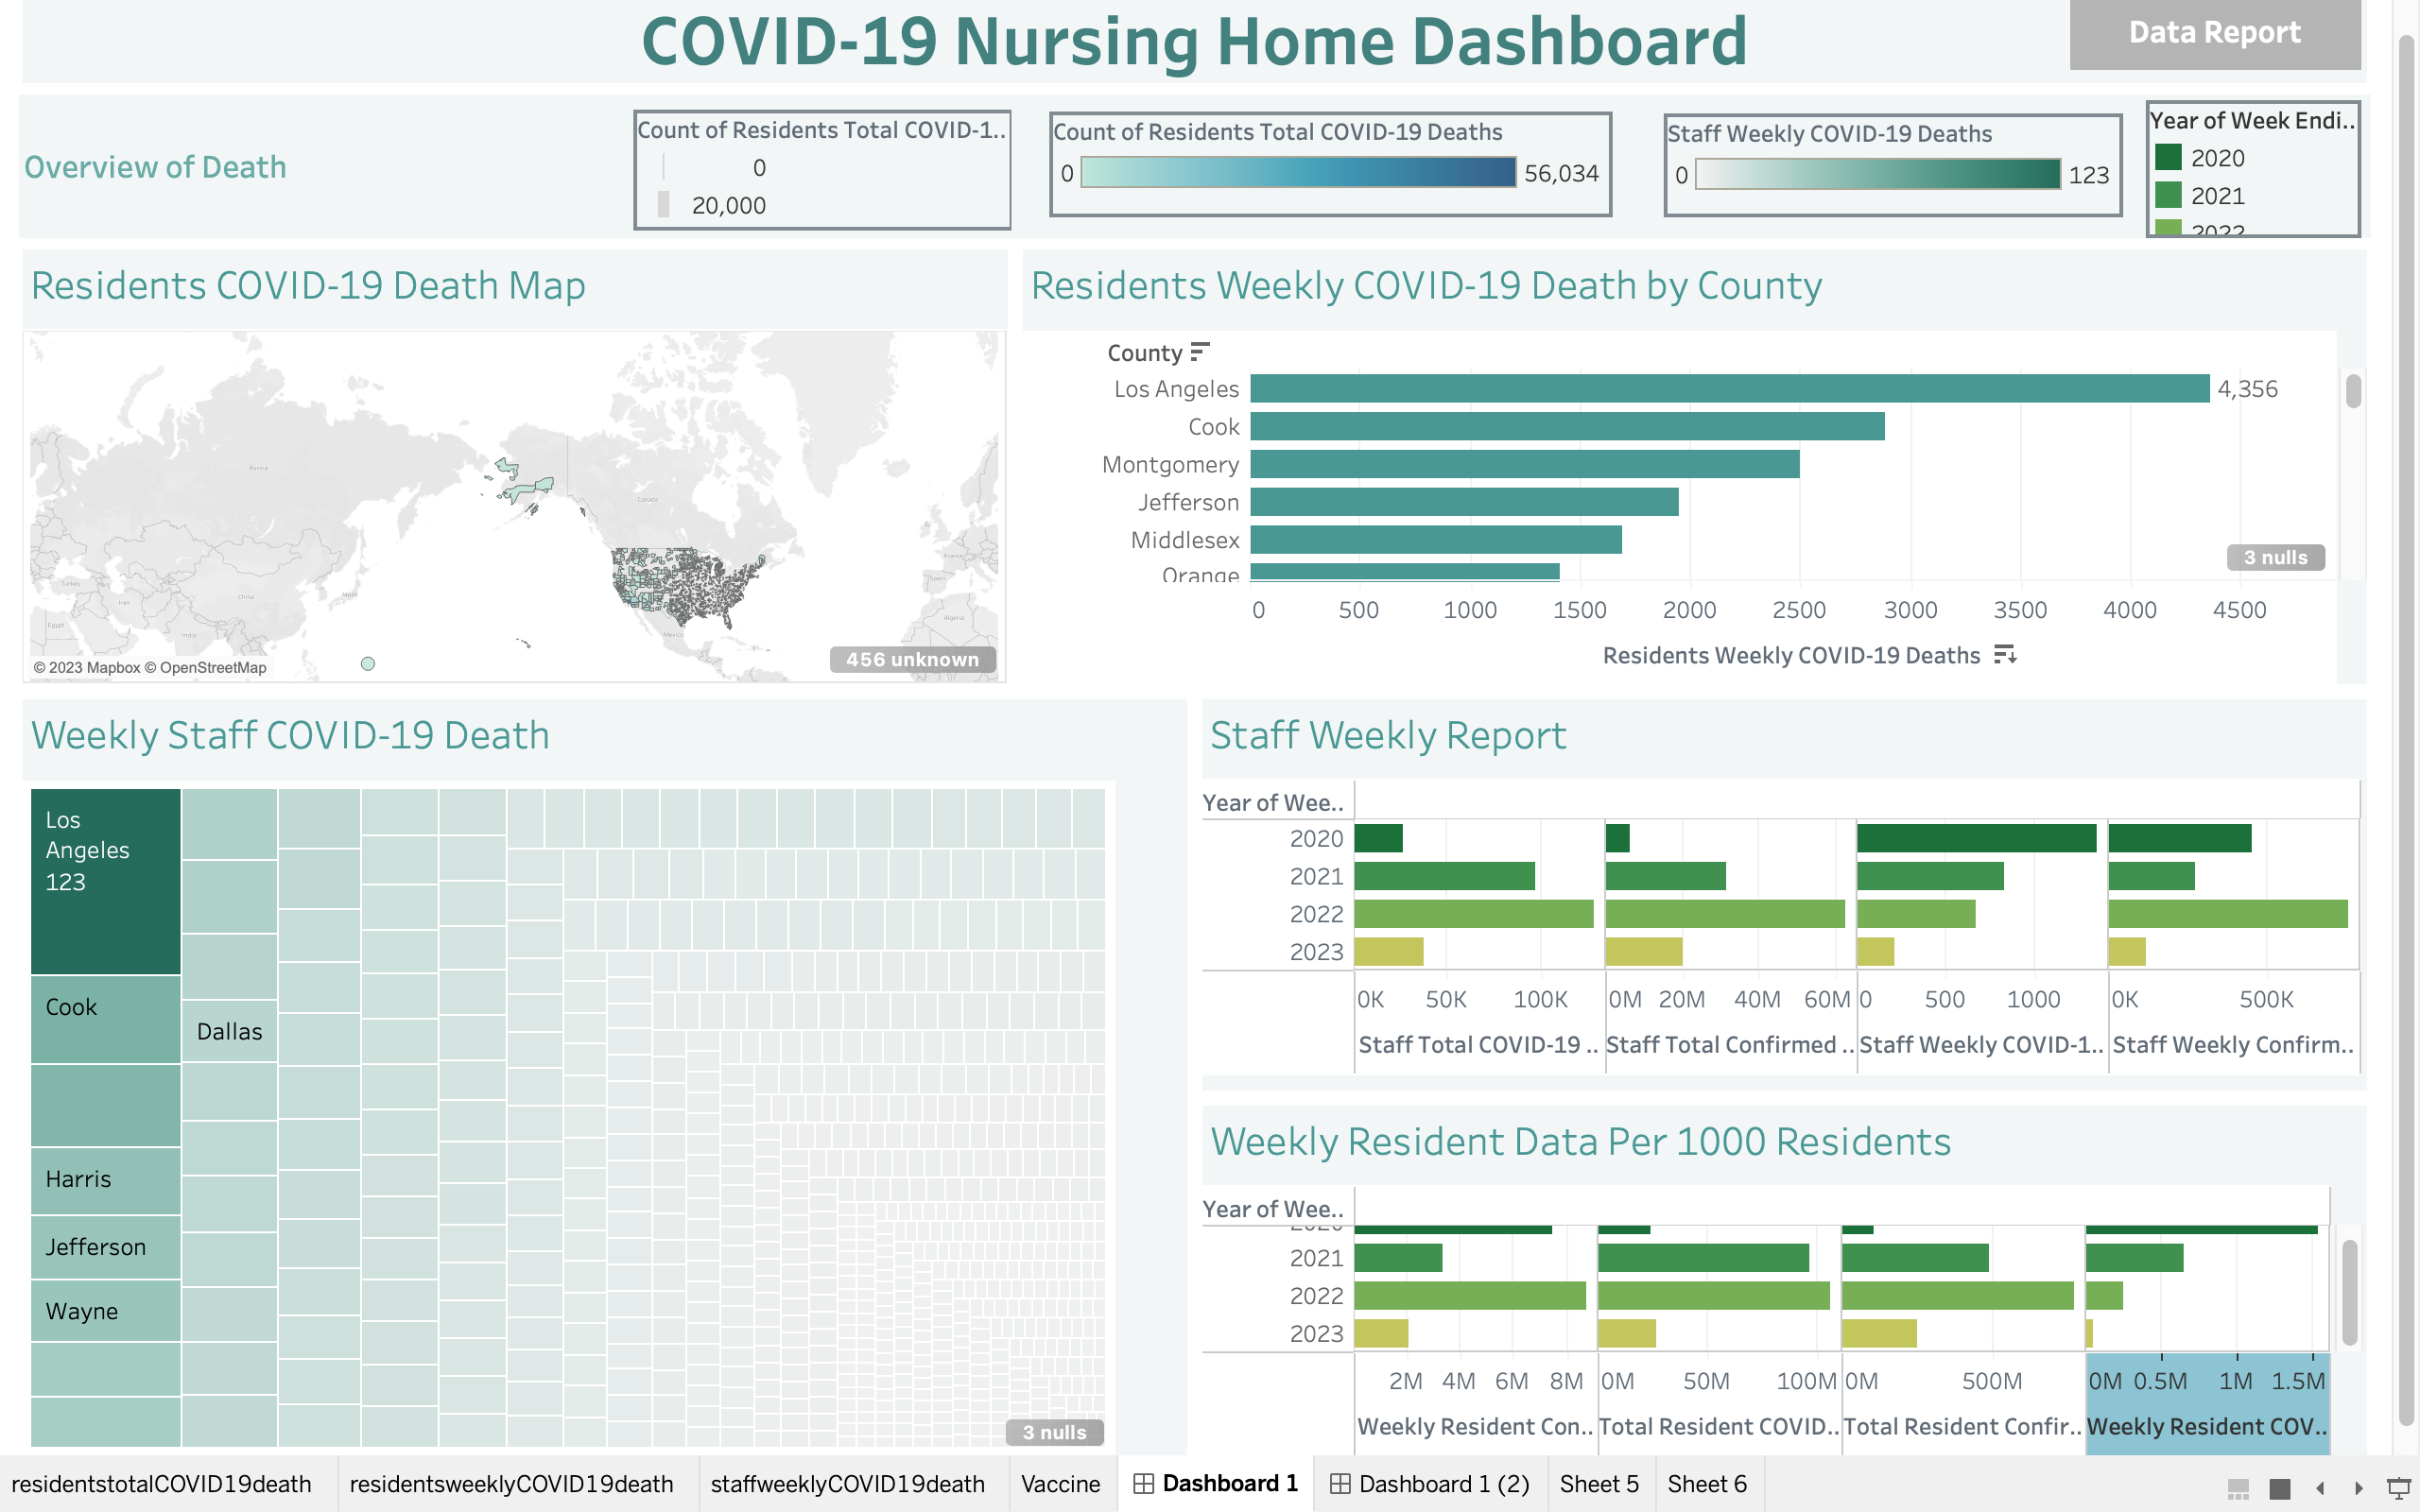

The page's visual inventory and layout, read from the dashboard file:
{"tool":"tableau","page":{"name":"Dashboard 1","canvas":[1000,1000],"units":"permille","ordinal":0},"visuals":[{"type":"text","box":[6.3,10,987.3,70.1]},{"type":"dashboard-object","box":[866.2,14.3,122.1,52.1]},{"type":"text","box":[6.3,80.1,987.3,100.1]},{"type":"legend","title":"Sheet 5","param":"[federated.0fa7a7h1lca3on14a5kf90kxp0wi].[yr:Week Ending:ok]","box":[898.3,86.4,90.2,91.4]},{"type":"legend","title":"residentstotalCOVID19death","param":"[federated.0fa7a7h1lca3on14a5kf90kxp0wi].[cnt:Residents Total COVID-19 Deaths:qk","box":[264.7,92.6,158.8,80.1]},{"type":"legend","title":"residentstotalCOVID19death","param":"[federated.0fa7a7h1lca3on14a5kf90kxp0wi].[cnt:Residents Total COVID-19 Deaths:qk","box":[439.2,93.9,235.7,70.1]},{"type":"legend","title":"staffweeklyCOVID19death","param":"[federated.0fa7a7h1lca3on14a5kf90kxp0wi].[sum:Staff Weekly COVID-19 Deaths:qk]","box":[696.4,95.1,191.9,68.8]},{"type":"worksheet","title":"residentstotalCOVID19death","mark":"Multipolygon","box":[6.3,180.2,418.5,297.9]},{"type":"worksheet","title":"residentsweeklyCOVID19death","mark":"Automatic","rows":["County"],"cols":["Residents Weekly COVID-19 Deaths"],"box":[424.8,180.2,568.8,297.9]},{"type":"worksheet","title":"staffweeklyCOVID19death","mark":"Automatic","box":[6.3,478.1,493.6,511.9]},{"type":"worksheet","title":"Sheet 5","mark":"Bar","rows":["Week Ending"],"cols":["Staff Total COVID-19 Deaths","Staff Total Confirmed COVID-19","Staff Weekly COVID-19 Deaths","Staff Weekly Confirmed COVID-19"],"box":[499.9,478.1,493.7,269.1]},{"type":"worksheet","title":"Sheet 6","mark":"Bar","rows":["Week Ending"],"cols":["Weekly Resident Confirmed COVID-19 Cases Per 1,000 Residents","Total Resident COVID-19 Deaths Per 1,000 Residents","Total Resident Confirmed COVID-19 Cases Per 1,000 Residents","Weekly Resident COVID-19 Deaths Per 1,000 Residents"],"box":[499.9,747.2,493.7,242.8]}]}

Visuals, with their boxes on the dashboard's canvas, which has no fixed pixel size, in thousandths of its width and height (x1, y1, x2, y2). These are canvas units, not pixel positions in the 2420x1512 screenshot, which may show the page scaled, cropped or inside an application window:
text: {"x1": 6, "y1": 10, "x2": 994, "y2": 80}
dashboard-object: {"x1": 866, "y1": 14, "x2": 988, "y2": 66}
text: {"x1": 6, "y1": 80, "x2": 994, "y2": 180}
"Sheet 5" legend: {"x1": 898, "y1": 86, "x2": 988, "y2": 178}
"residentstotalCOVID19death" legend: {"x1": 265, "y1": 93, "x2": 424, "y2": 173}
"residentstotalCOVID19death" legend: {"x1": 439, "y1": 94, "x2": 675, "y2": 164}
"staffweeklyCOVID19death" legend: {"x1": 696, "y1": 95, "x2": 888, "y2": 164}
"residentstotalCOVID19death" worksheet (Multipolygon marks): {"x1": 6, "y1": 180, "x2": 425, "y2": 478}
"residentsweeklyCOVID19death" worksheet: {"x1": 425, "y1": 180, "x2": 994, "y2": 478}
"staffweeklyCOVID19death" worksheet: {"x1": 6, "y1": 478, "x2": 500, "y2": 990}
"Sheet 5" worksheet (Bar marks): {"x1": 500, "y1": 478, "x2": 994, "y2": 747}
"Sheet 6" worksheet (Bar marks): {"x1": 500, "y1": 747, "x2": 994, "y2": 990}
